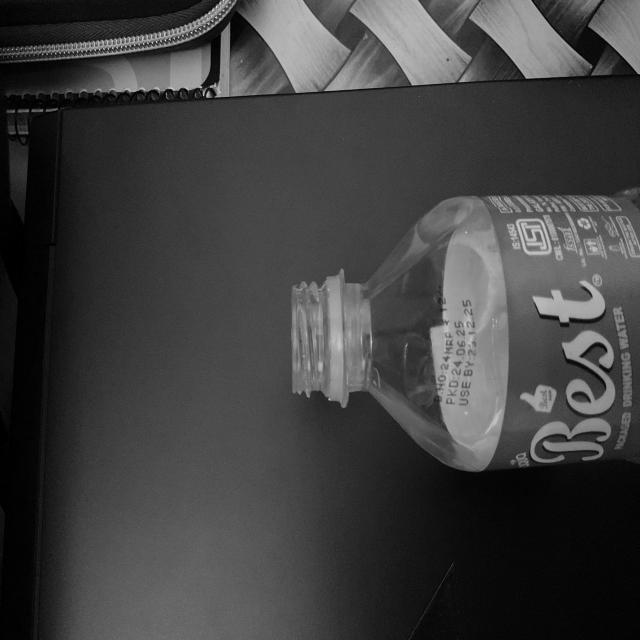open-cap: (290, 273, 344, 407)
